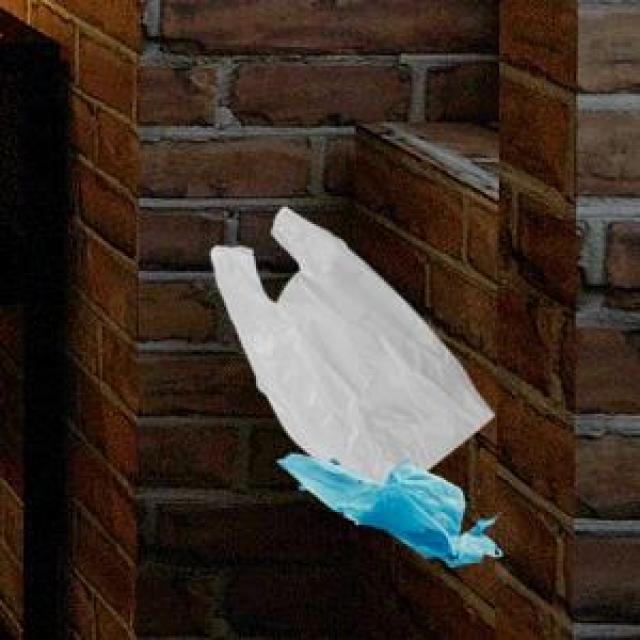plastic: (168, 165, 544, 610)
